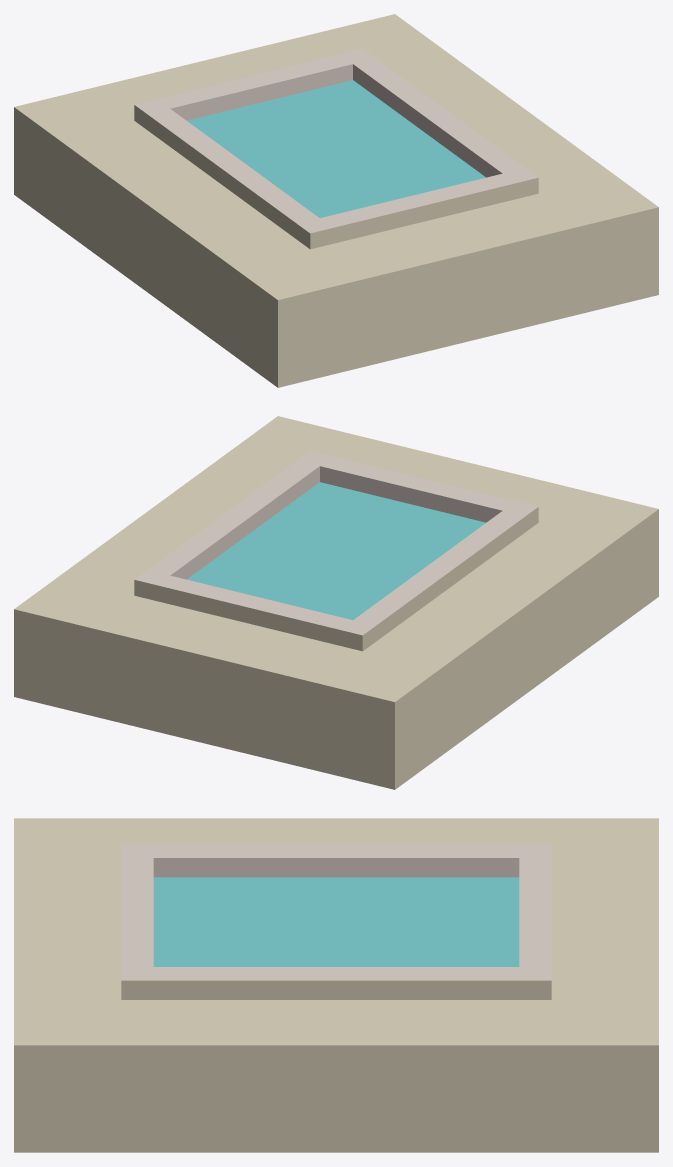
Rendered from roman_pool.fbx.
The picture shows the model from 3 angles, top to bottom: view 1: azimuth 30°, elevation 25°; view 2: azimuth 150°, elevation 25°; view 3: azimuth 270°, elevation 25°; orthographic projection. The views are drawn at different scales.
Visible parts, largest first — view 1: Cube.037; view 2: Cube.037; view 3: Cube.037.
Part boxes in pixels (left/top/right/bottom): Cube.037: left=14, top=14, right=658, bottom=387; Cube.037: left=14, top=416, right=658, bottom=789; Cube.037: left=14, top=818, right=658, bottom=1152.
Bounding box in the file's own units: 5 × 1.3 × 6.
